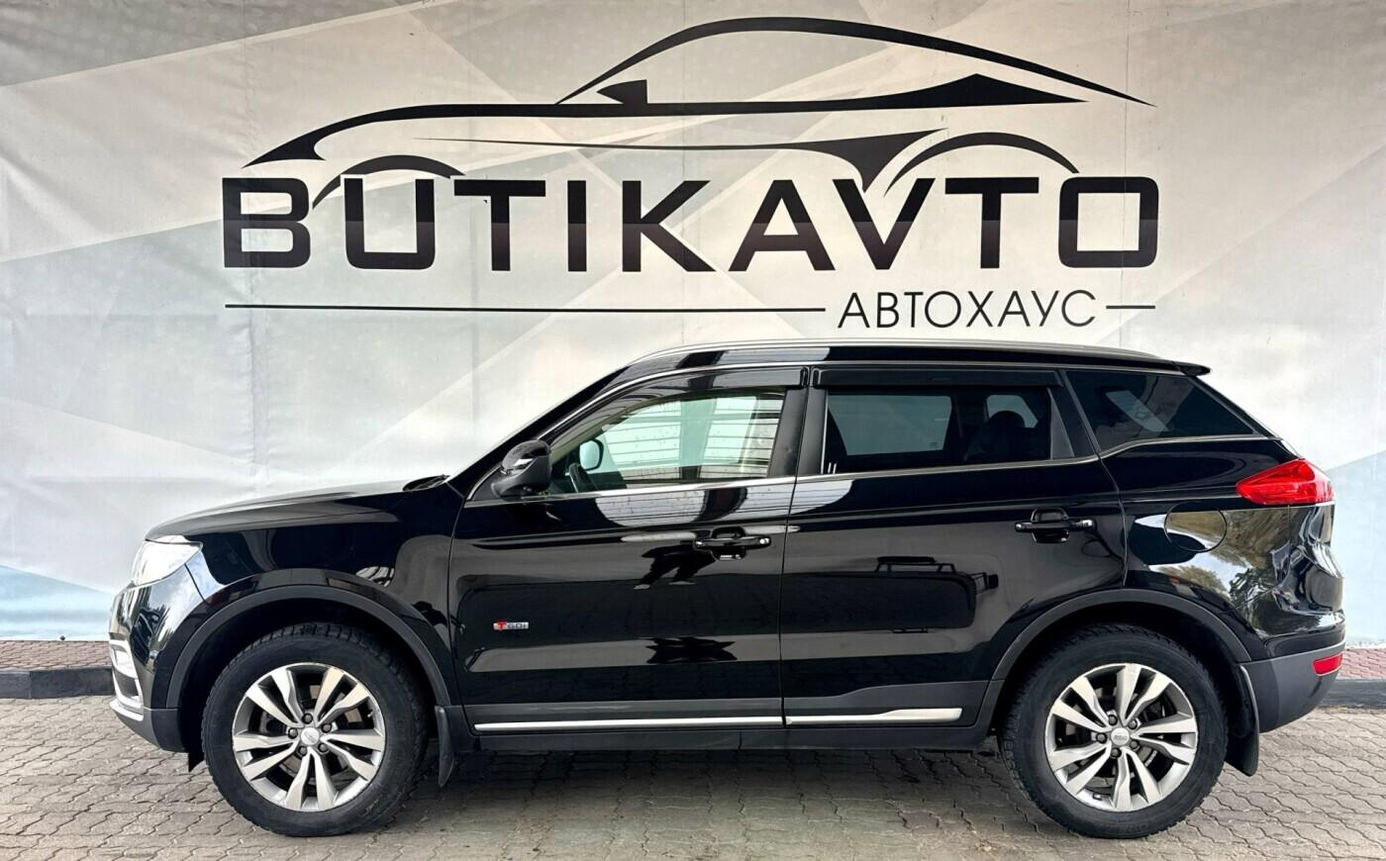Atlas_2016-2023: (107, 330, 1347, 838)
